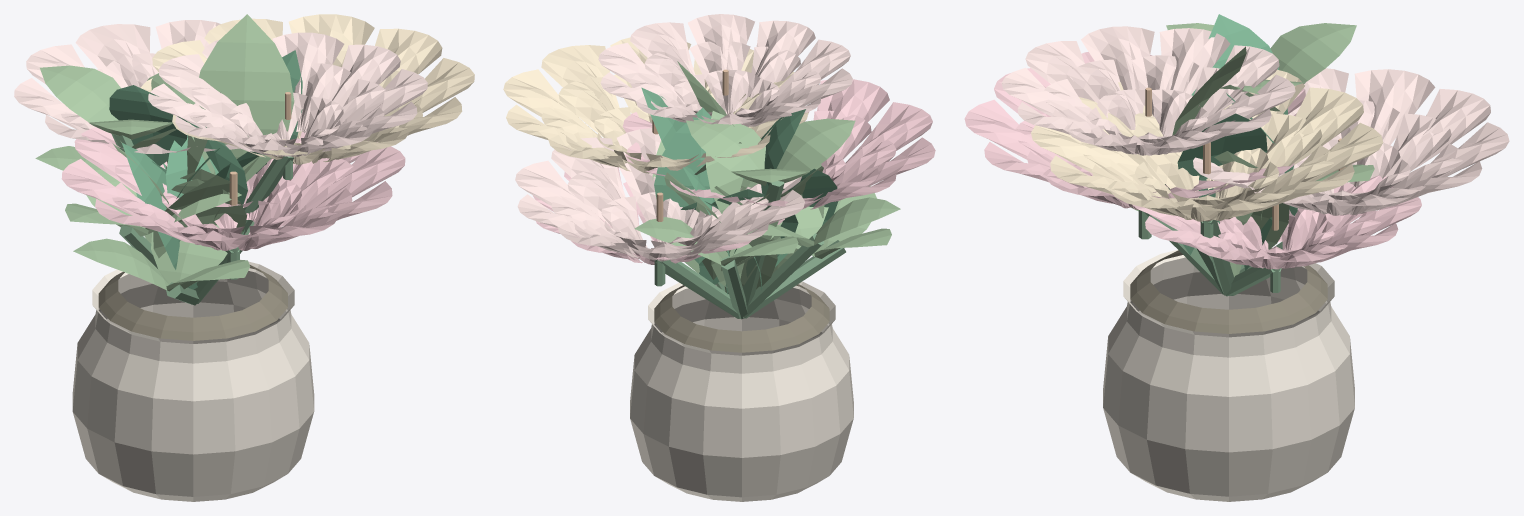
File: heritage-rose-planter.glb
The picture shows the model from 3 angles, left to right: view 1: azimuth 30°, elevation 25°; view 2: azimuth 150°, elevation 25°; view 3: azimuth 270°, elevation 25°; orthographic projection. The views are drawn at different scales.
Visible parts, largest first — view 1: botanical_0, botanical_7, botanical_4, botanical_5, botanical_8, botanical_3, botanical_1, botanical_2; view 2: botanical_0, botanical_7, botanical_4, botanical_8, botanical_5, botanical_3, botanical_2, botanical_1; view 3: botanical_0, botanical_7, botanical_8, botanical_5, botanical_4, botanical_1, botanical_3, botanical_2, botanical_6.
Boxes of the visible parts, x1,y1,x2,y2 form: botanical_0: (72, 259, 314, 501); botanical_7: (14, 20, 427, 156); botanical_4: (35, 14, 294, 291); botanical_5: (61, 127, 405, 250); botanical_8: (140, 14, 474, 164); botanical_3: (109, 50, 302, 289); botanical_1: (98, 265, 287, 340); botanical_2: (111, 133, 293, 305); botanical_0: (630, 281, 853, 501); botanical_7: (515, 14, 852, 261); botanical_4: (634, 61, 900, 293); botanical_8: (503, 37, 808, 173); botanical_5: (533, 79, 935, 264); botanical_3: (641, 87, 838, 293); botanical_2: (654, 181, 845, 319); botanical_1: (654, 284, 829, 352); botanical_0: (1103, 248, 1354, 501); botanical_7: (1001, 26, 1509, 215); botanical_8: (1031, 69, 1383, 221); botanical_5: (964, 52, 1421, 269); botanical_4: (1131, 23, 1374, 277); botanical_1: (1130, 248, 1327, 333); botanical_3: (1177, 14, 1297, 270); botanical_2: (1138, 184, 1282, 296); botanical_6: (1145, 87, 1345, 230).
Bounding box in the file's own units: 1.37 × 1.42 × 1.58.
